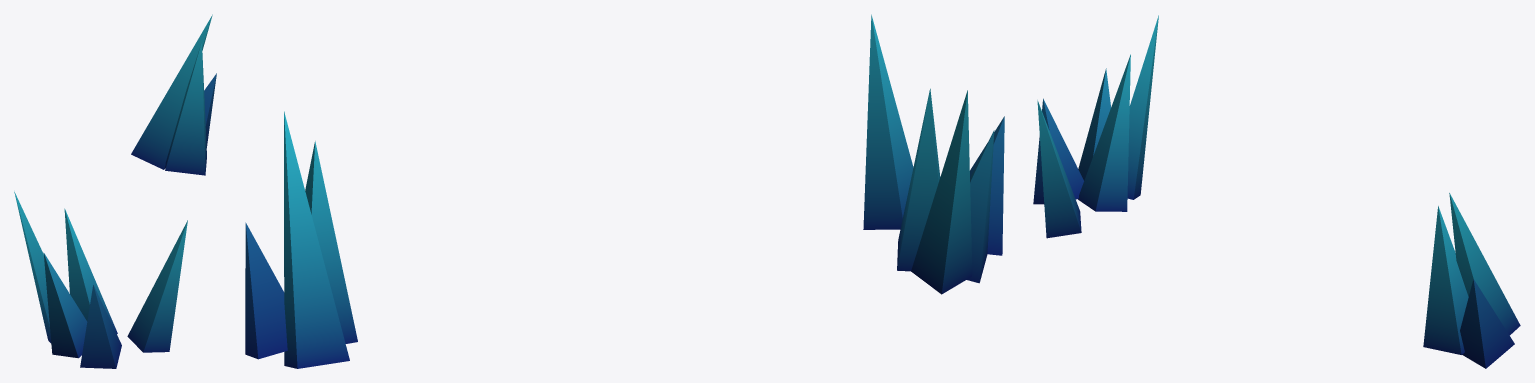
File: MODULE_ALIEN_FULL_2_SPIRES.fbx
3 views of the same model, side by side, from view 1: azimuth 30°, elevation 25°; view 2: azimuth 150°, elevation 25°; view 3: azimuth 270°, elevation 25° (orthographic). The views are drawn at different scales.
Visible parts, largest first — view 1: MODULE_ALIEN_FULL_2_SPIRES_DECOR__export; view 2: MODULE_ALIEN_FULL_2_SPIRES_DECOR__export; view 3: MODULE_ALIEN_FULL_2_SPIRES_DECOR__export.
Boxes of the visible parts, x1=… form: MODULE_ALIEN_FULL_2_SPIRES_DECOR__export: x1=14, y1=14, x2=216, y2=368; MODULE_ALIEN_FULL_2_SPIRES_DECOR__export: x1=245, y1=14, x2=1004, y2=368; MODULE_ALIEN_FULL_2_SPIRES_DECOR__export: x1=1033, y1=15, x2=1520, y2=368.
Size of what is drawn, in the model's own units: 31.55 by 13.5 by 34.74.
